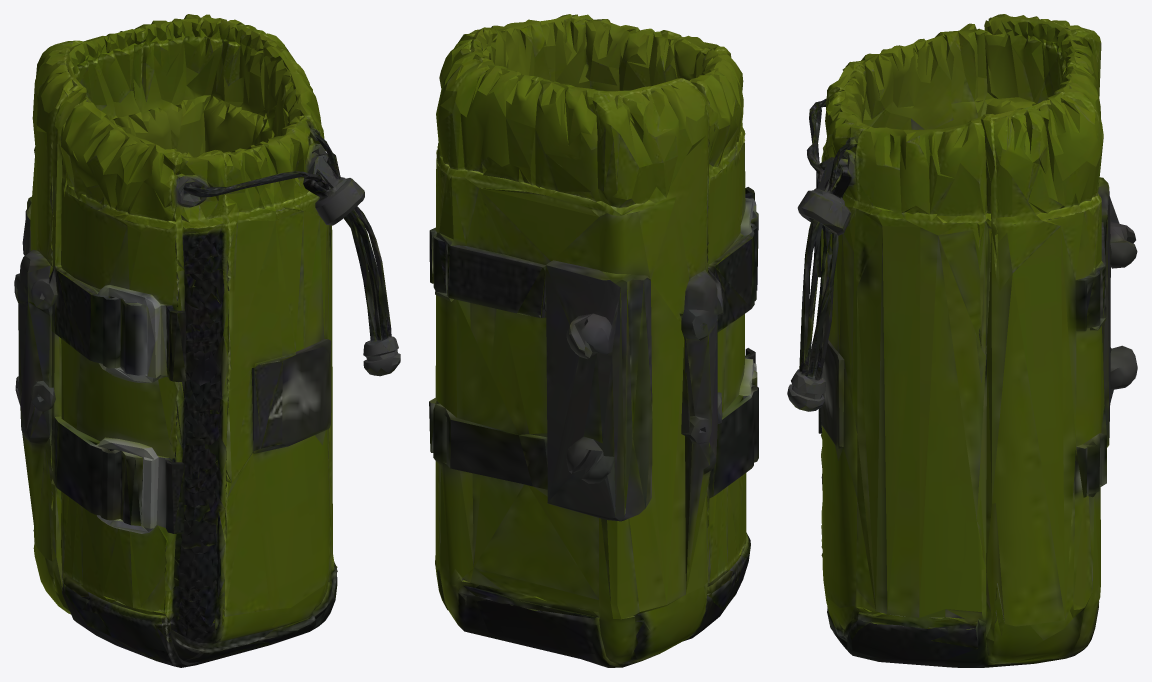
Rendered from lkdv-m01.glb.
3 views of the same model, side by side, from view 1: azimuth 30°, elevation 25°; view 2: azimuth 150°, elevation 25°; view 3: azimuth 270°, elevation 25° (orthographic). The views are drawn at different scales.
Bounding box in the file's own units: 0.1098 × 0.21 × 0.1187.
Materials: 1 (1 with a texture image).
